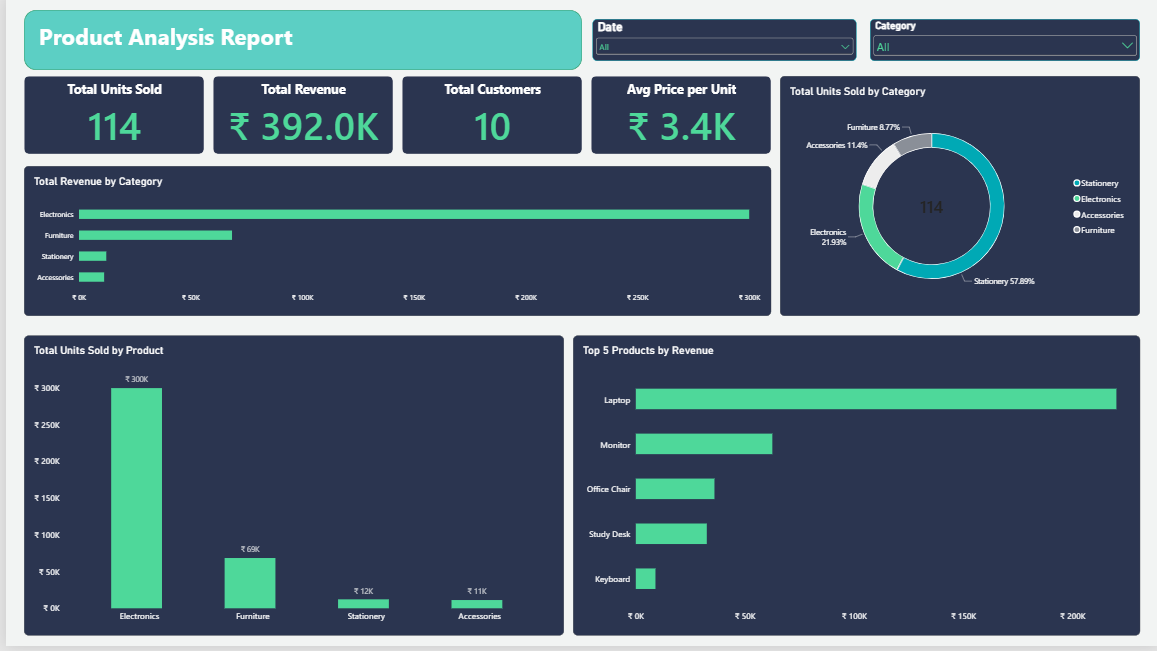

This screenshot's page, from the dashboard's own definition file:
{"tool":"powerbi","page":{"name":"Product Analysis","canvas":[1920,1080],"ordinal":1},"visuals":[{"type":"slicer","fields":{"Values":["Calendar.Month Name"]},"box":[977.5,35,440,70],"z":1000},{"type":"slicer","fields":{"Values":["public products.category"]},"box":[1440,35,450,70],"z":2000},{"type":"cardVisual","fields":{"Data":["public order_items.Total Units Sold"]},"box":[30,130,300,130],"z":3000},{"type":"cardVisual","fields":{"Data":["public order_items.Total Revenue"]},"box":[345,130,300,130],"z":4000},{"type":"cardVisual","fields":{"Data":["public customers.Total Customers"]},"box":[660,130,300,130],"z":5000},{"type":"cardVisual","fields":{"Data":["public order_items.Avg Price per Unit"]},"box":[975,130,300,130],"z":6000},{"type":"donutChart","title":"Total Units Sold by Category","fields":{"Category":["public products.category"],"Y":["public order_items.Total Units Sold"]},"box":[1290,130,600,400],"z":7000},{"type":"clusteredBarChart","title":"Total Revenue by Category","fields":{"Category":["public products.category"],"Y":["public order_items.Total Revenue"]},"box":[30,280,1245,250],"z":8000},{"type":"clusteredColumnChart","title":"Total Units Sold by Product","fields":{"Category":["public products.category"],"Y":["public order_items.Total Revenue"]},"box":[30,562.5,900,500],"z":9000},{"type":"clusteredBarChart","title":"Top 5 Products by Revenue","fields":{"Category":["public products.product_name"],"Y":["public order_items.Total Revenue"]},"box":[945,562.5,945,500],"z":10000},{"type":"shape","box":[30,20,930,100],"z":11000},{"type":"textbox","box":[55,37.5,710,62.5],"z":11001}]}

Visuals, with their boxes in screenshot pixels (x1, y1, x2, y2), scaled from the page's 1920x1080 canvas onto the 1157x651 screenshot:
slicer - Calendar.Month Name: (589, 21, 854, 63)
slicer - public products.category: (868, 21, 1139, 63)
cardVisual - public order_items.Total Units Sold: (18, 78, 199, 157)
cardVisual - public order_items.Total Revenue: (208, 78, 389, 157)
cardVisual - public customers.Total Customers: (398, 78, 578, 157)
cardVisual - public order_items.Avg Price per Unit: (588, 78, 768, 157)
"Total Units Sold by Category" donutChart: (777, 78, 1139, 319)
"Total Revenue by Category" clusteredBarChart: (18, 169, 768, 319)
"Total Units Sold by Product" clusteredColumnChart: (18, 339, 560, 640)
"Top 5 Products by Revenue" clusteredBarChart: (569, 339, 1139, 640)
shape: (18, 12, 578, 72)
textbox: (33, 23, 461, 60)
